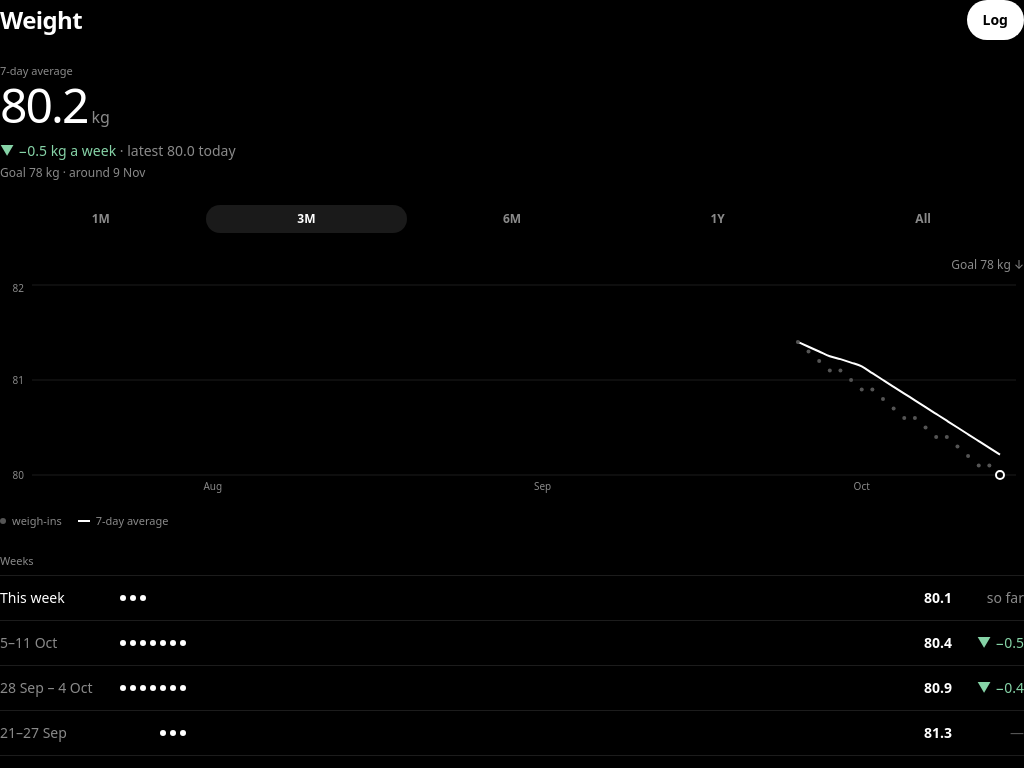
Weight page › gives a failed weigh-in back when Log is opened again
This screenshot has width=1024, height=768.
Click the button "Log": click(995, 20) [966,0,1023,40]
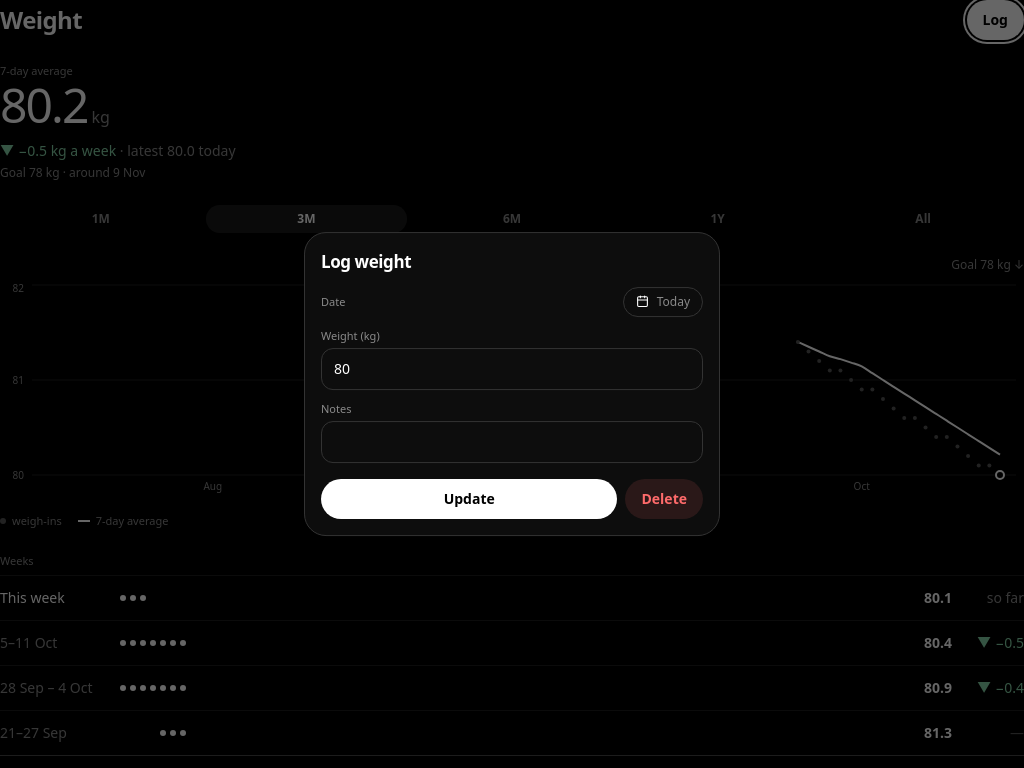
Replace the text in the number field labelled "Weight (kg)" with "79.6": (512, 369) [321,348,703,390]
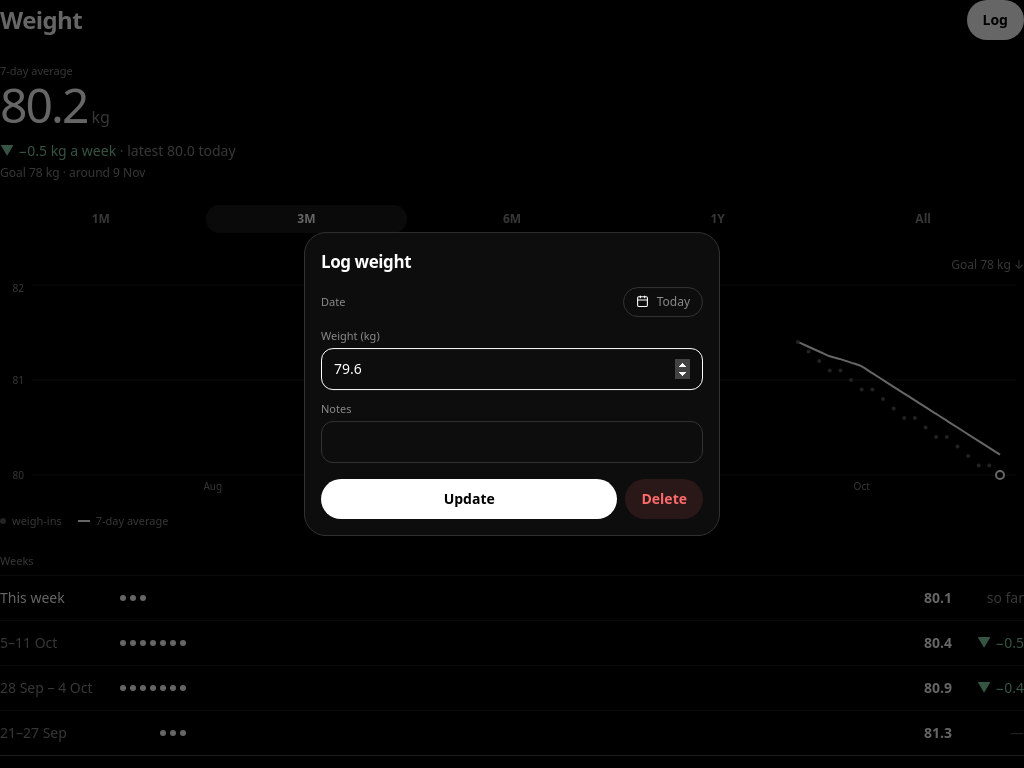
In the field labelled "Notes": (512, 442) [321,421,703,463], type "after a run"
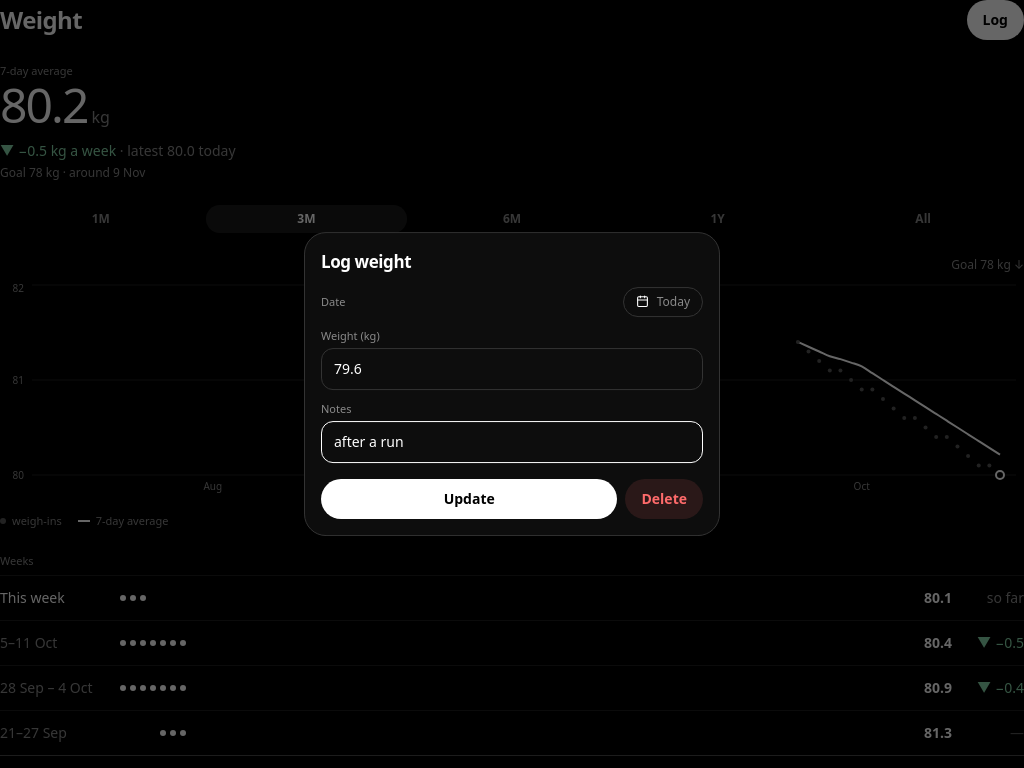
Click the button "Update": click(469, 499) [321,479,618,519]
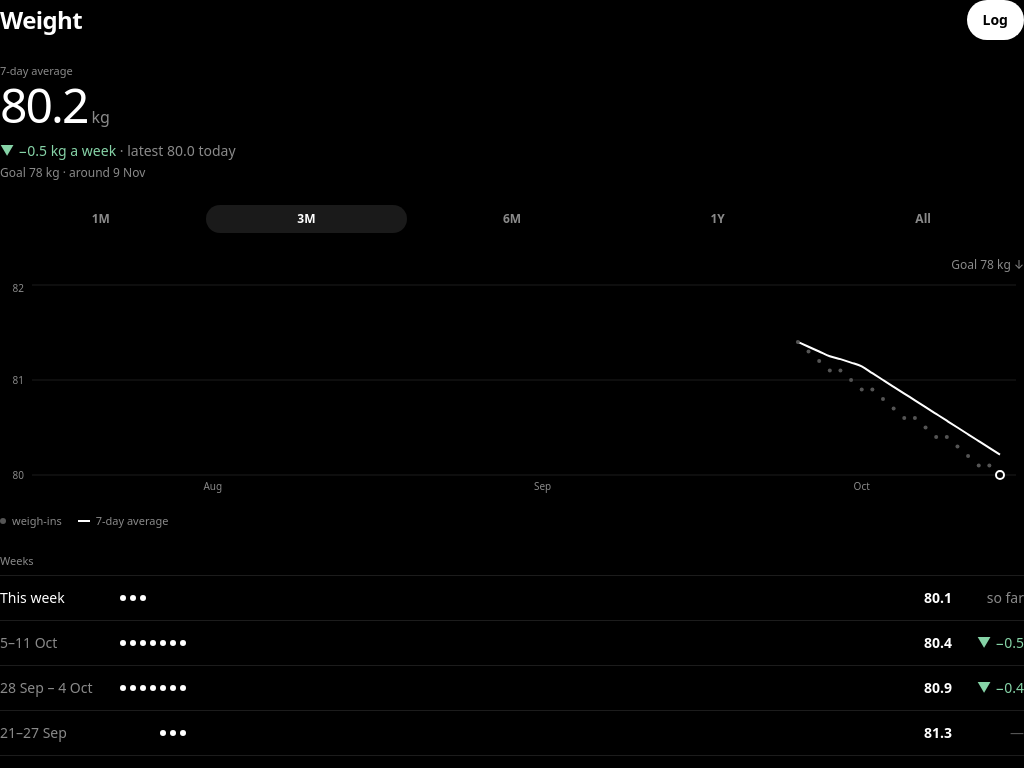
Result: the dialog is gone
Click the button "Log": click(995, 20) [966,0,1023,40]
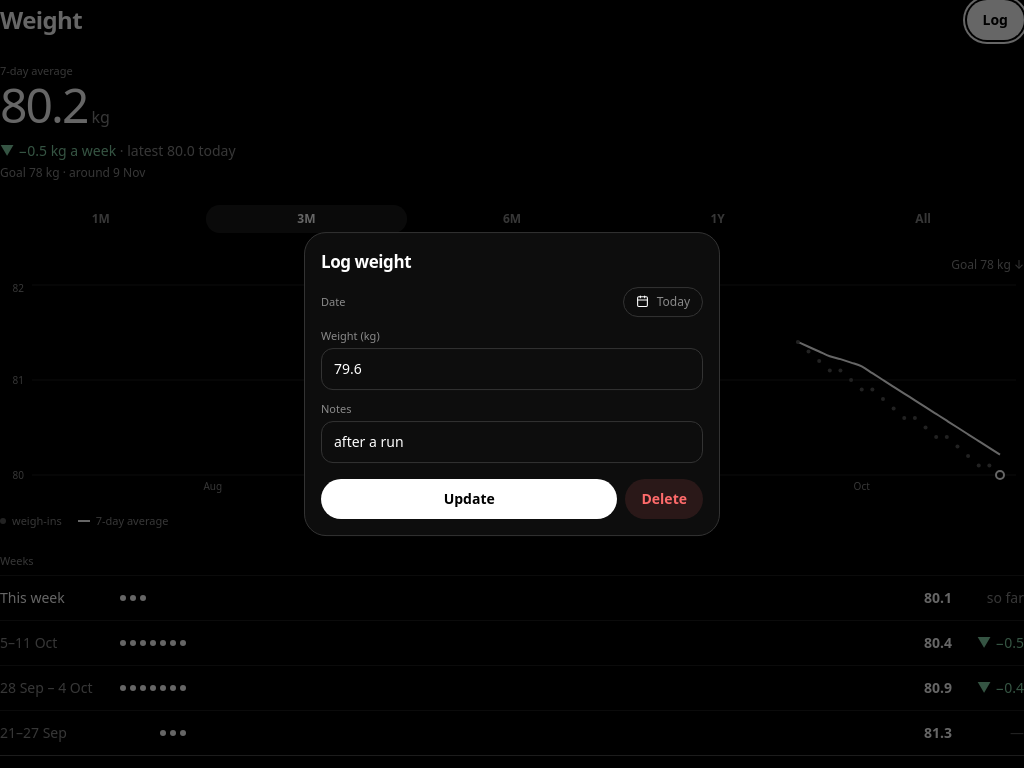
Result: the number field labelled "Weight (kg)" holds "79.6" at [321,348,703,390]
Result: the field labelled "Notes" holds "after a run" at [321,421,703,463]
